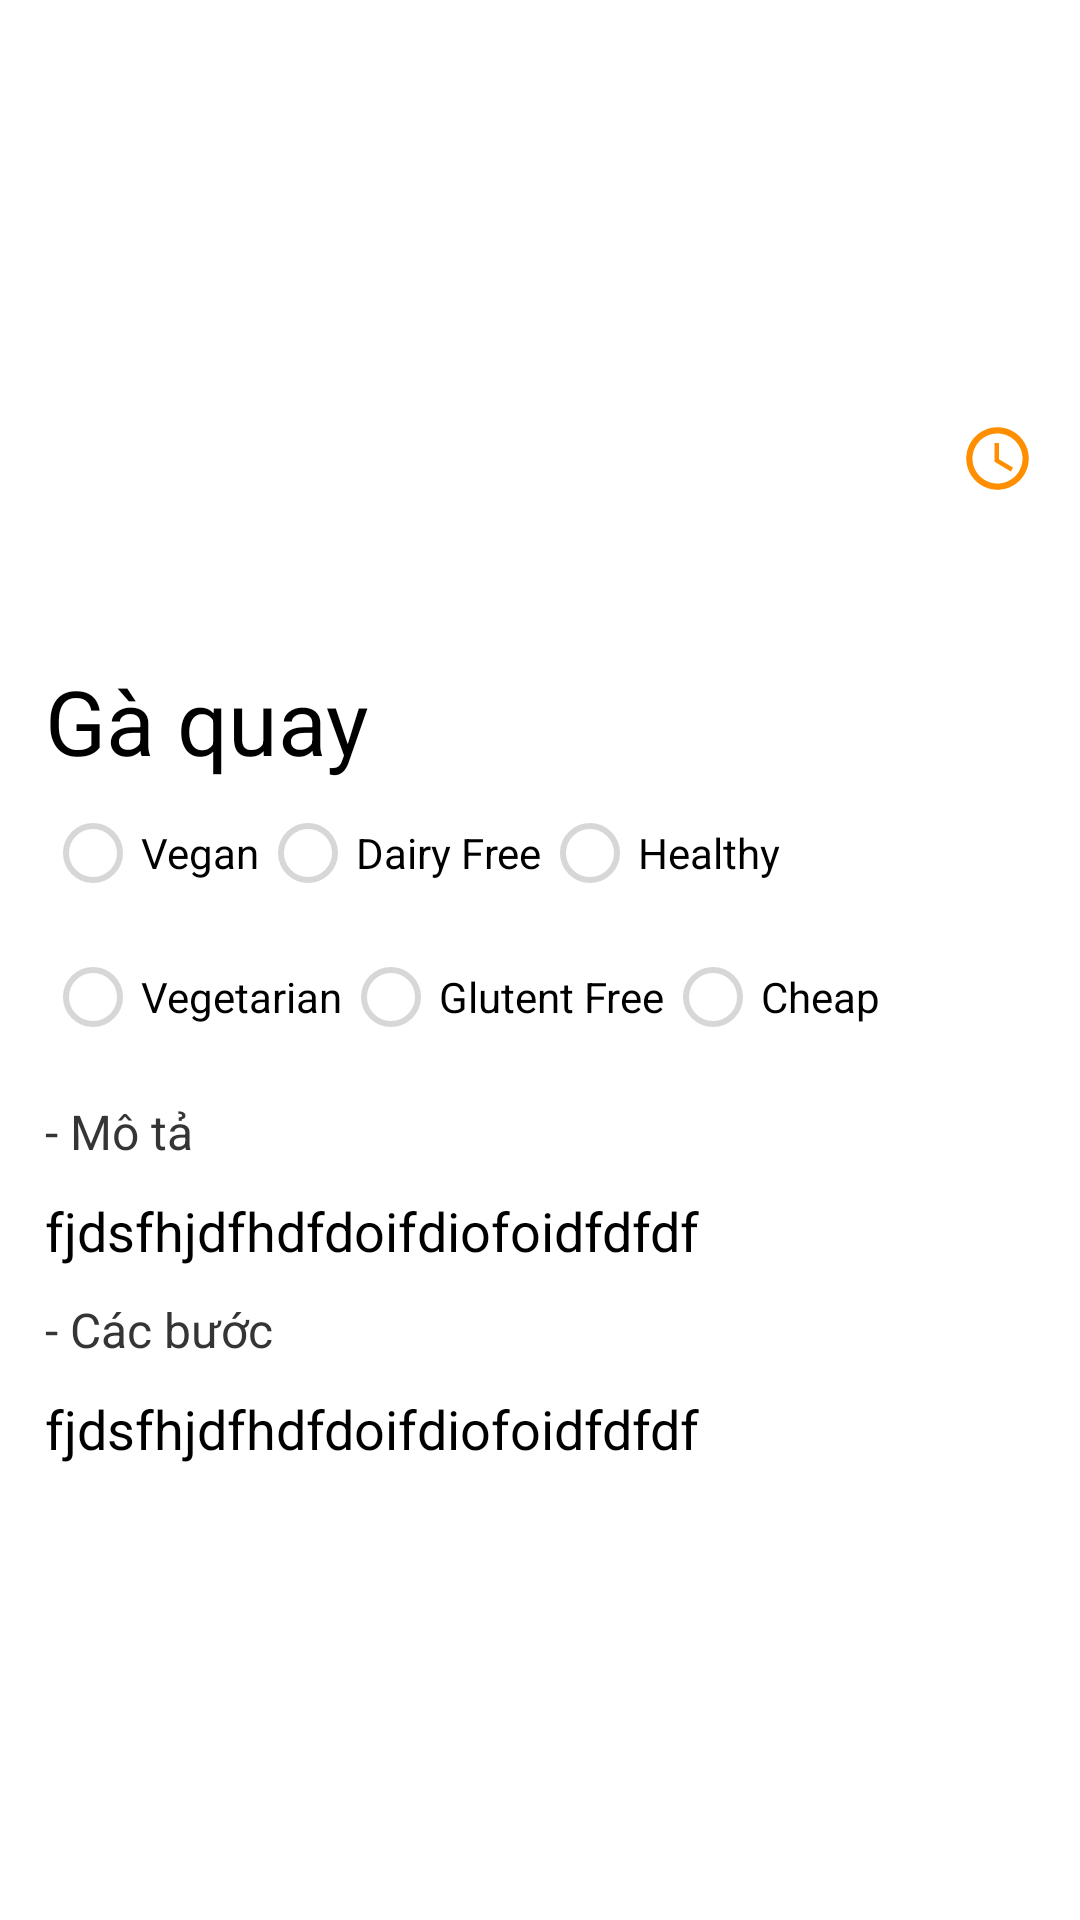

Point at icon controls on the screen. Image size 1080px×1920px, points as (x=x, y=y).
access time: (x=997, y=458)
